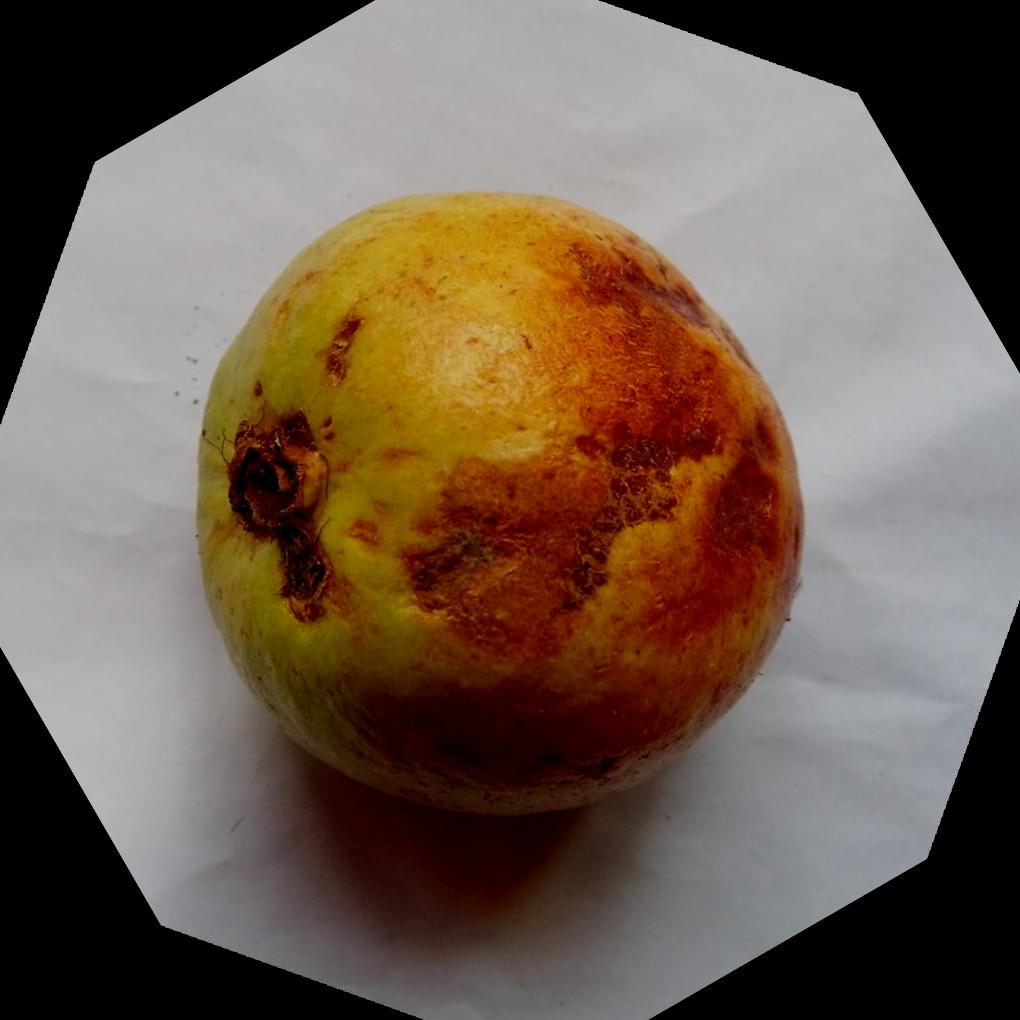FreshOrange: (194, 193, 806, 822)
